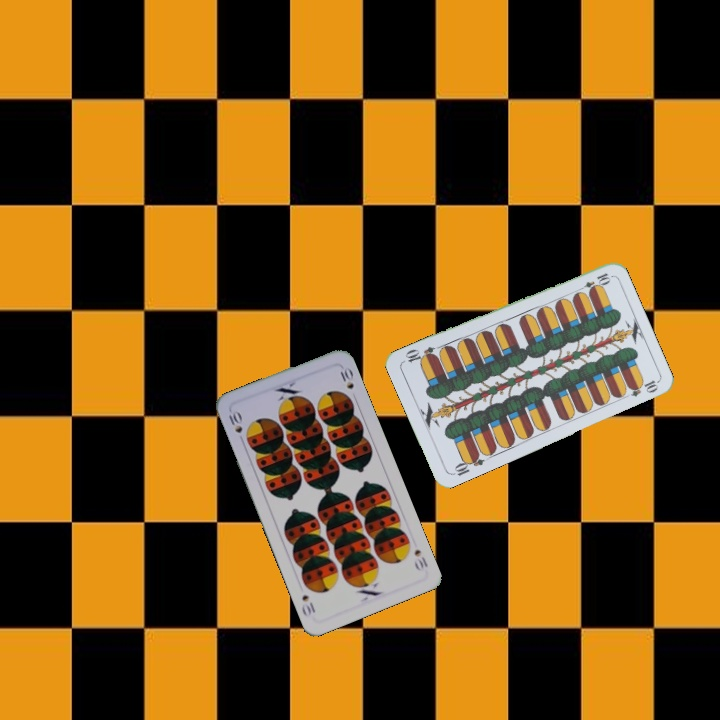E10: (448, 449, 487, 479), (574, 269, 613, 295)
S10: (225, 406, 245, 436), (410, 545, 430, 573)
